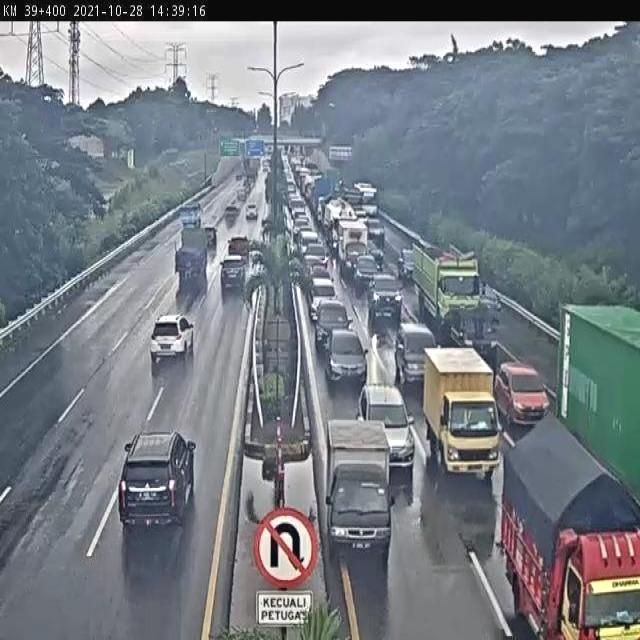Bus: (351, 180, 378, 216)
Car: (118, 432, 196, 530), (355, 384, 416, 471), (494, 361, 549, 426), (323, 328, 370, 386), (394, 323, 436, 386), (149, 313, 195, 369), (312, 299, 353, 351), (368, 273, 403, 322), (309, 278, 338, 322), (219, 254, 247, 298), (352, 254, 380, 293), (303, 244, 327, 272), (298, 230, 322, 258), (480, 287, 502, 315), (397, 248, 415, 282), (228, 236, 250, 260), (366, 218, 386, 241), (292, 217, 313, 238), (204, 226, 217, 251), (224, 204, 239, 222), (308, 262, 328, 274), (245, 203, 258, 219), (236, 188, 247, 205)
Truck: (499, 410, 640, 640), (556, 299, 640, 497), (421, 346, 504, 481), (321, 418, 397, 562), (411, 238, 487, 327), (173, 227, 209, 282), (337, 220, 369, 276), (324, 198, 356, 250), (313, 178, 336, 225), (178, 202, 204, 228), (324, 168, 343, 196), (341, 190, 363, 212)
